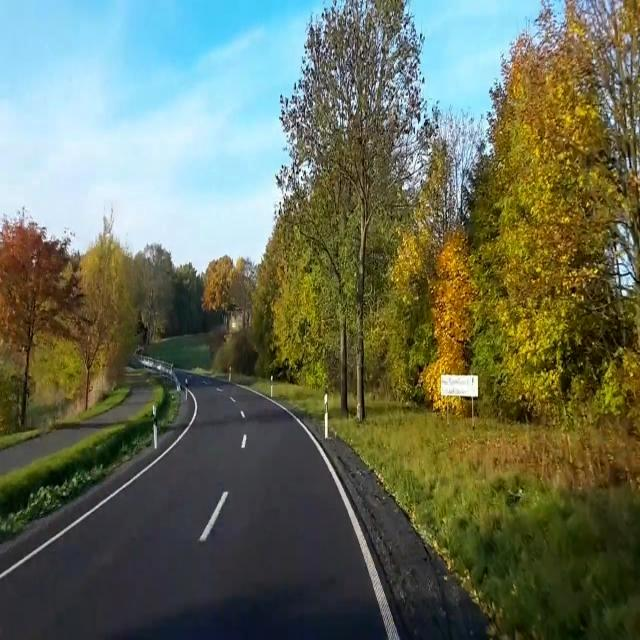lane: (0, 392, 199, 581), (251, 390, 400, 639), (198, 490, 229, 542)
road: (0, 375, 386, 639), (0, 376, 386, 639), (323, 441, 486, 639)
